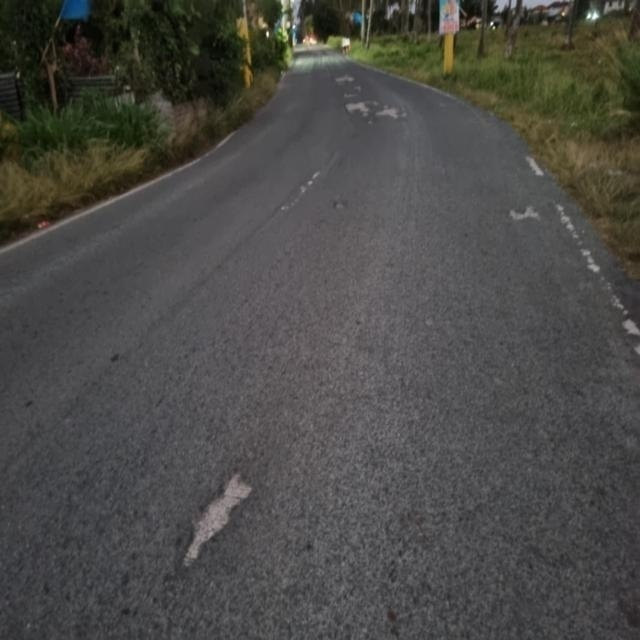pothole: (168, 426, 316, 580), (496, 180, 546, 248), (369, 86, 423, 135), (334, 80, 376, 128)
